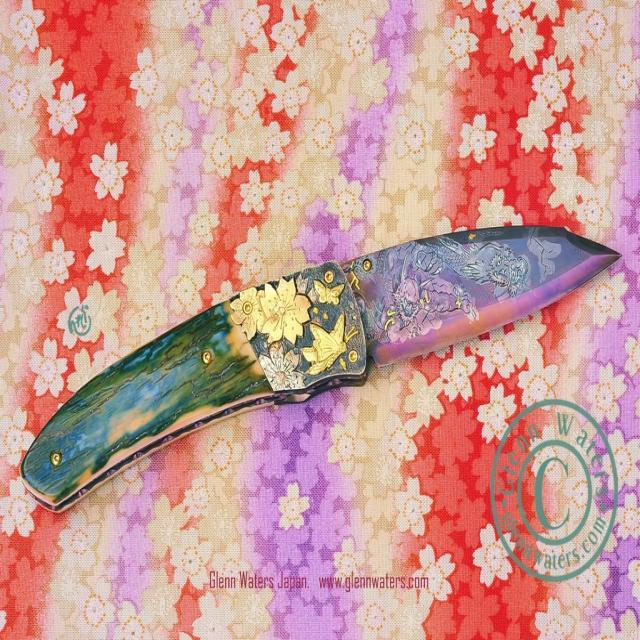Knife: (20, 229, 622, 512)
